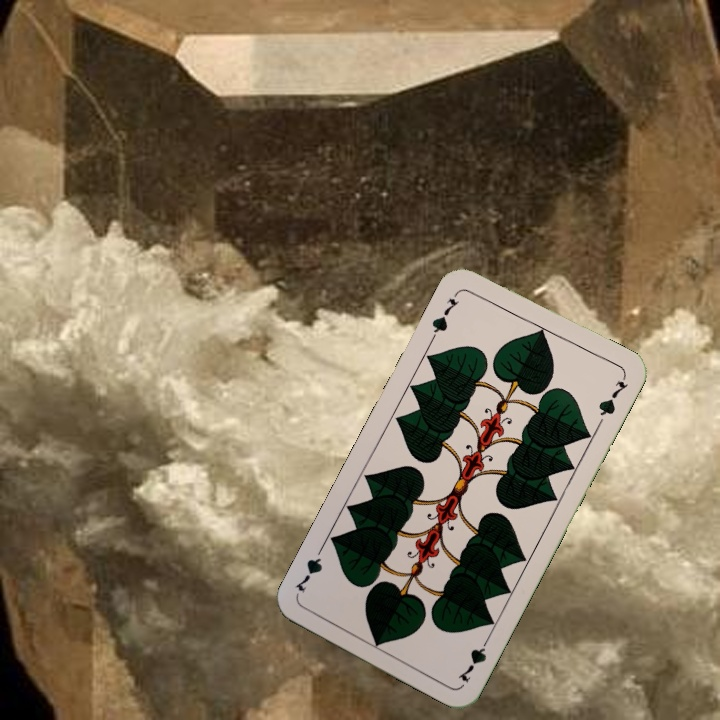G7: (453, 631, 493, 685), (427, 287, 463, 342)
